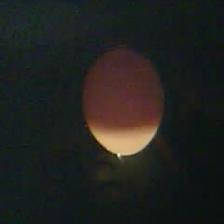fertile: (82, 46, 166, 156)
